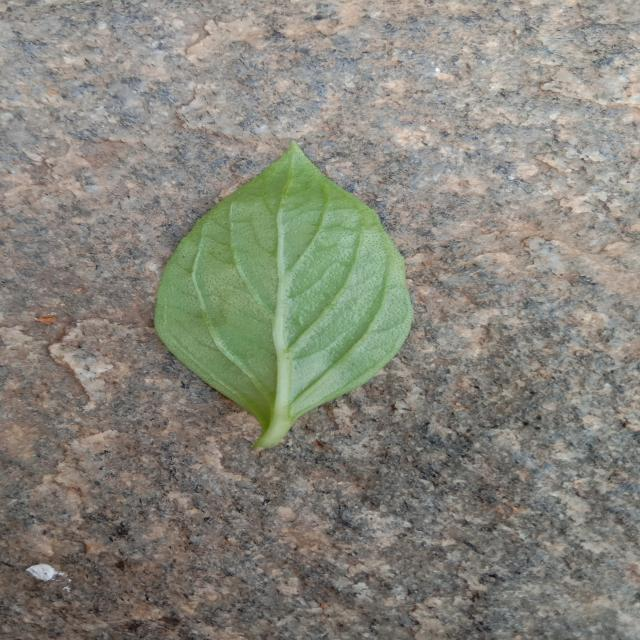kamakasturi: (155, 144, 413, 450)
